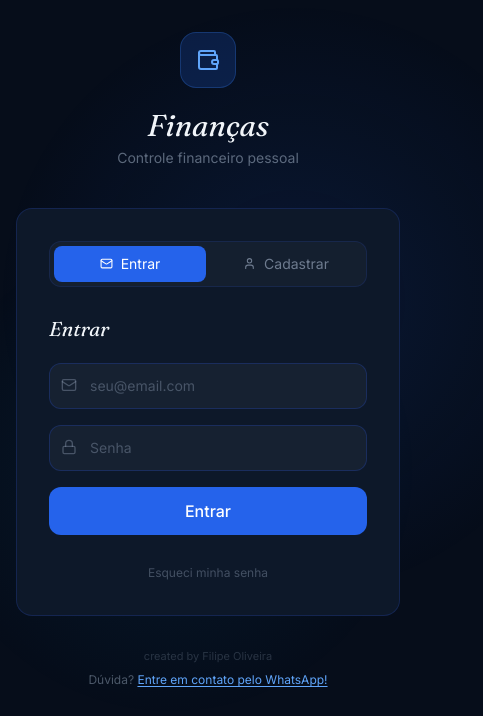
Test case: Auth › cadastro com token › token não marcado como usado é avisado
Click the button "Cadastrar".
click(286, 264)  # box [210,246,362,282]
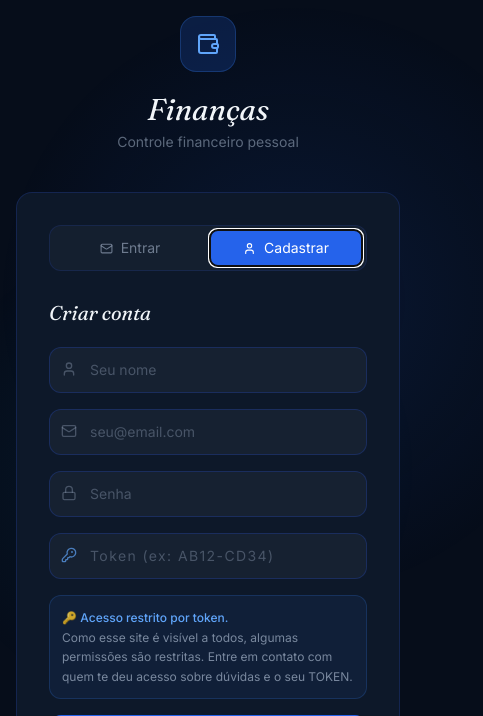
Type "Teste" into the field with placeholder "Seu nome".
click(208, 370); type("Teste")  # box [49,347,367,393]
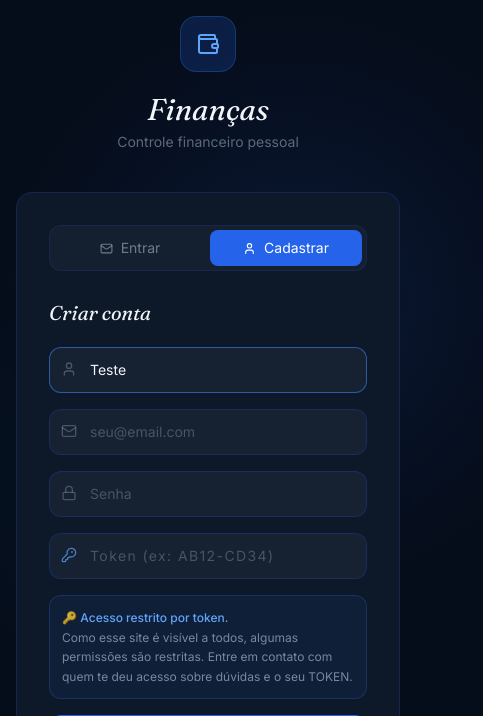
Type "teste@example.com" into the field with placeholder "seu@email.com".
click(208, 432); type("teste@example.com")  # box [49,409,367,455]
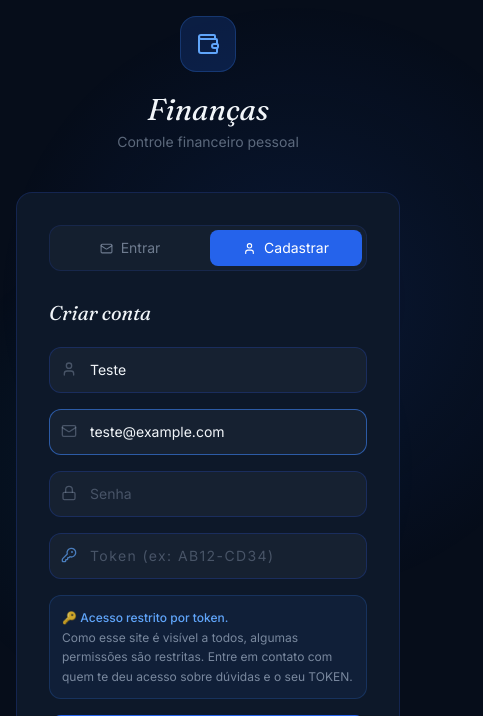
Type "senha-teste" into the password field with placeholder "Senha".
click(208, 494); type("senha-teste")  # box [49,471,367,517]
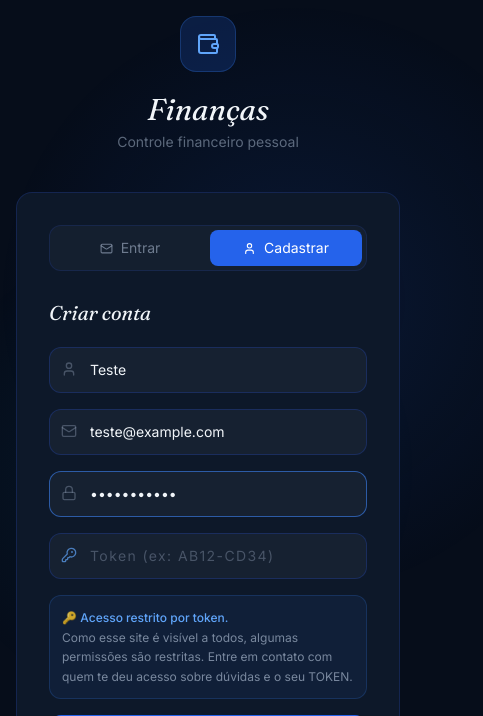
Type "ab12-cd34" into the field with placeholder "Token (ex: AB12-CD34)".
click(208, 556); type("ab12-cd34")  # box [49,533,367,579]
(page scrolled)
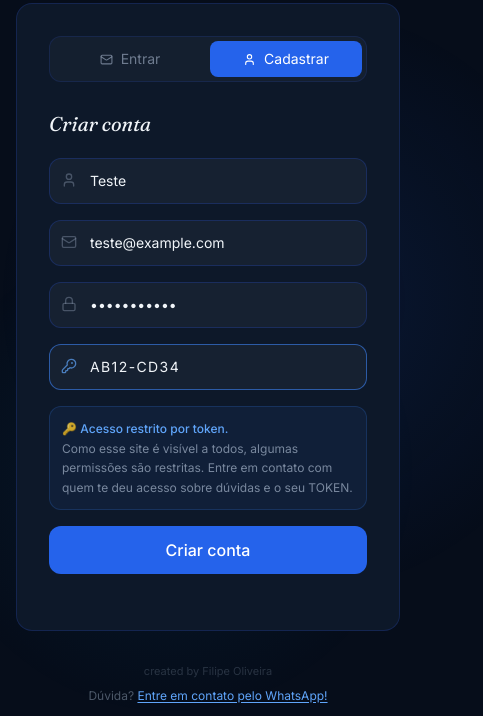
Click the button "Criar conta".
click(208, 550)  # box [49,526,367,574]
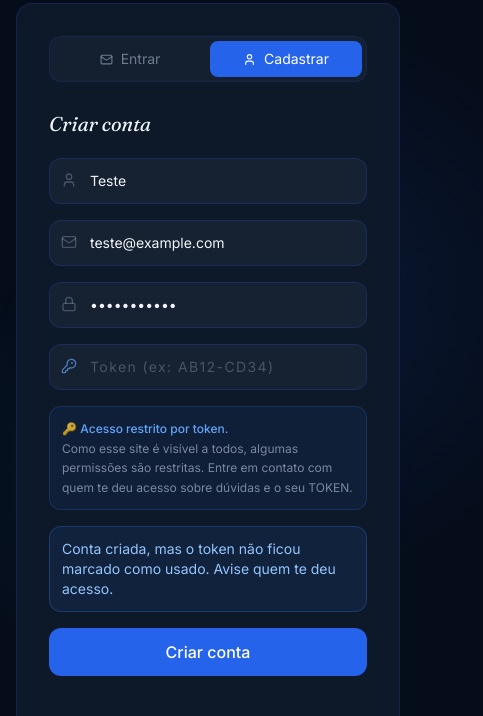
Expected: the text "o token não ficou marcado como usado" is shown, [62,540,336,597]
